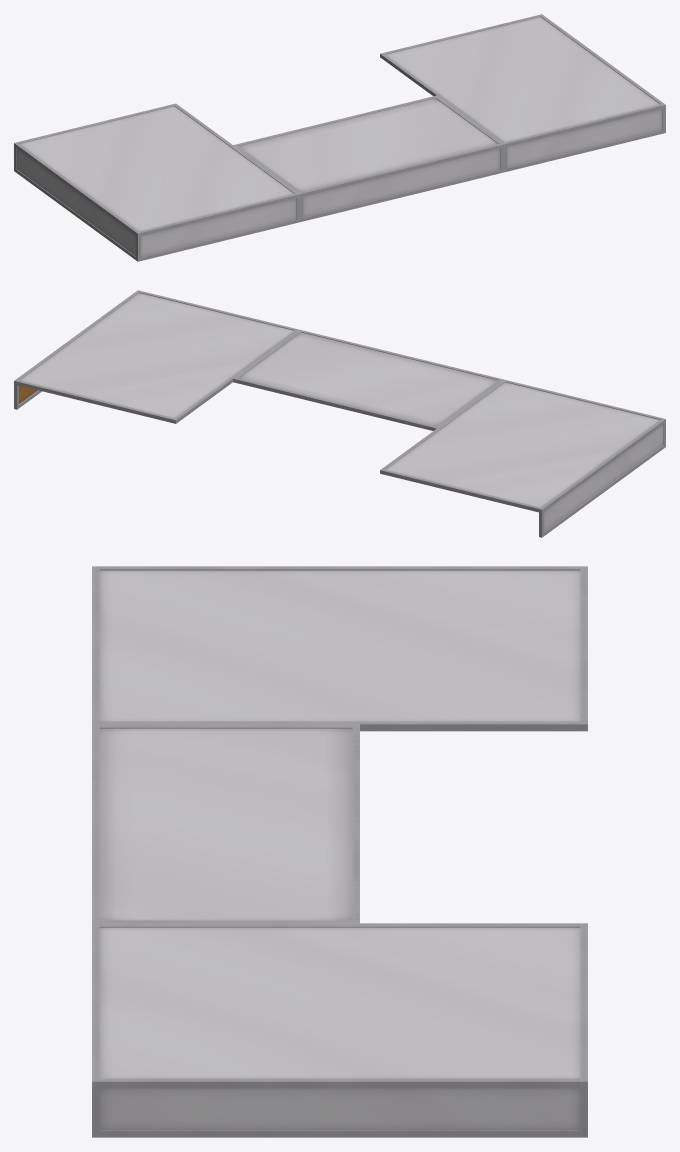
Rendered from jsf_2P_s02_c04_t04_DX.fbx.
3 renders of one model, top to bottom at view 1: azimuth 30°, elevation 25°; view 2: azimuth 150°, elevation 25°; view 3: azimuth 270°, elevation 25°, orthographic. The views are drawn at different scales.
Visible parts, largest first — view 1: jsf_2P_s02_c04_t04_DX; view 2: jsf_2P_s02_c04_t04_DX; view 3: jsf_2P_s02_c04_t04_DX.
Boxes of the visible parts, left/top/right/bottom form: jsf_2P_s02_c04_t04_DX: left=14, top=14, right=665, bottom=261; jsf_2P_s02_c04_t04_DX: left=14, top=290, right=665, bottom=537; jsf_2P_s02_c04_t04_DX: left=92, top=566, right=587, bottom=1137.
Size of the model in its own units: 246 by 12.51 by 100.
